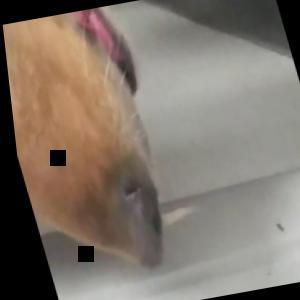nasal_discharge: (101, 173, 209, 274)
